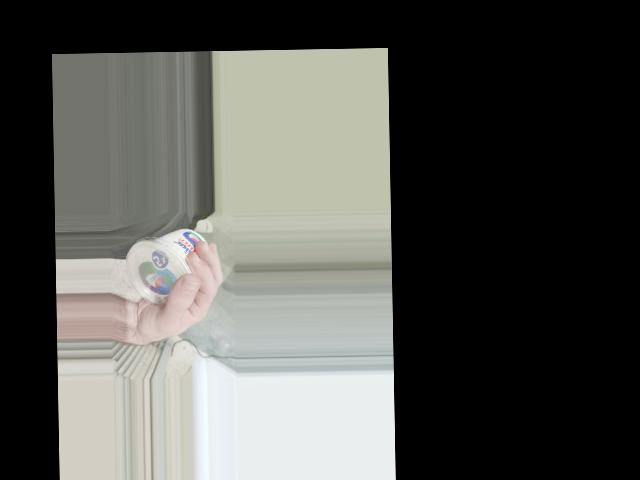cotage: (122, 228, 212, 304)
